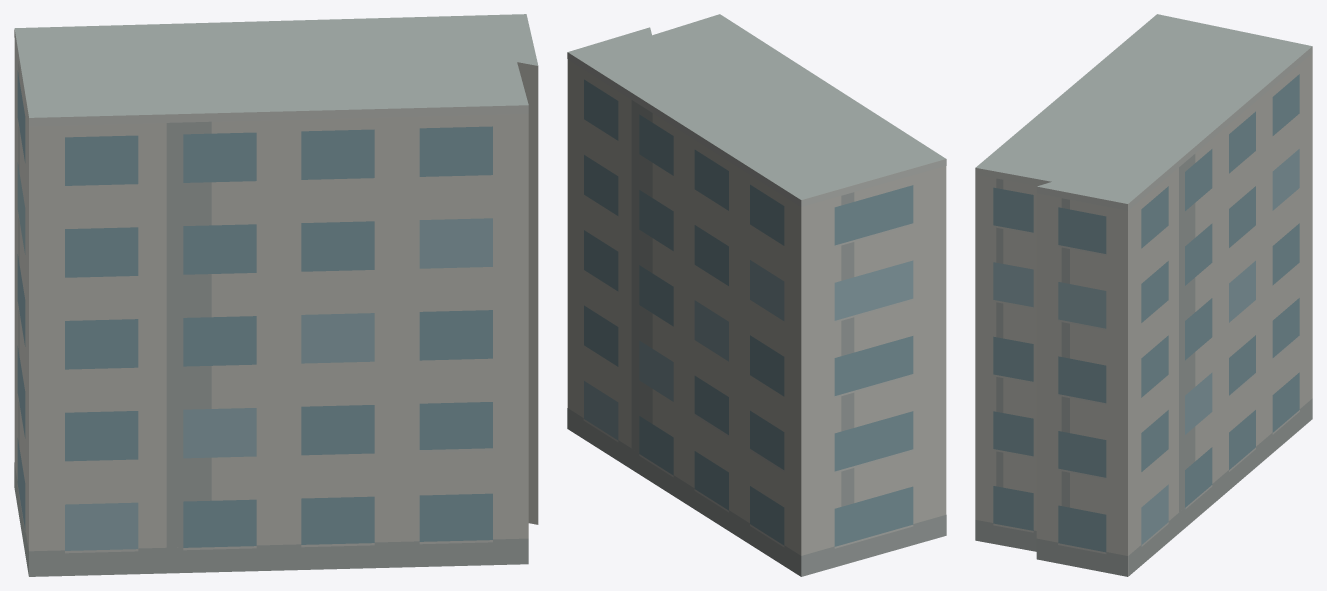
The model's file is survey-upis-32724577.glb.
3 renders of one model, left to right at view 1: azimuth 30°, elevation 25°; view 2: azimuth 150°, elevation 25°; view 3: azimuth 270°, elevation 25°, orthographic. The views are drawn at different scales.
Parts seen in each view (by area): view 1: survey-upis-32724577.tmp; view 2: survey-upis-32724577.tmp; view 3: survey-upis-32724577.tmp.
Part boxes in pixels (box(x1,y1,x2,y2)): survey-upis-32724577.tmp: box(14, 14, 538, 576); survey-upis-32724577.tmp: box(567, 14, 946, 576); survey-upis-32724577.tmp: box(975, 14, 1312, 576).
Bounding box in the file's own units: 14.44 × 13.2 × 10.83.
